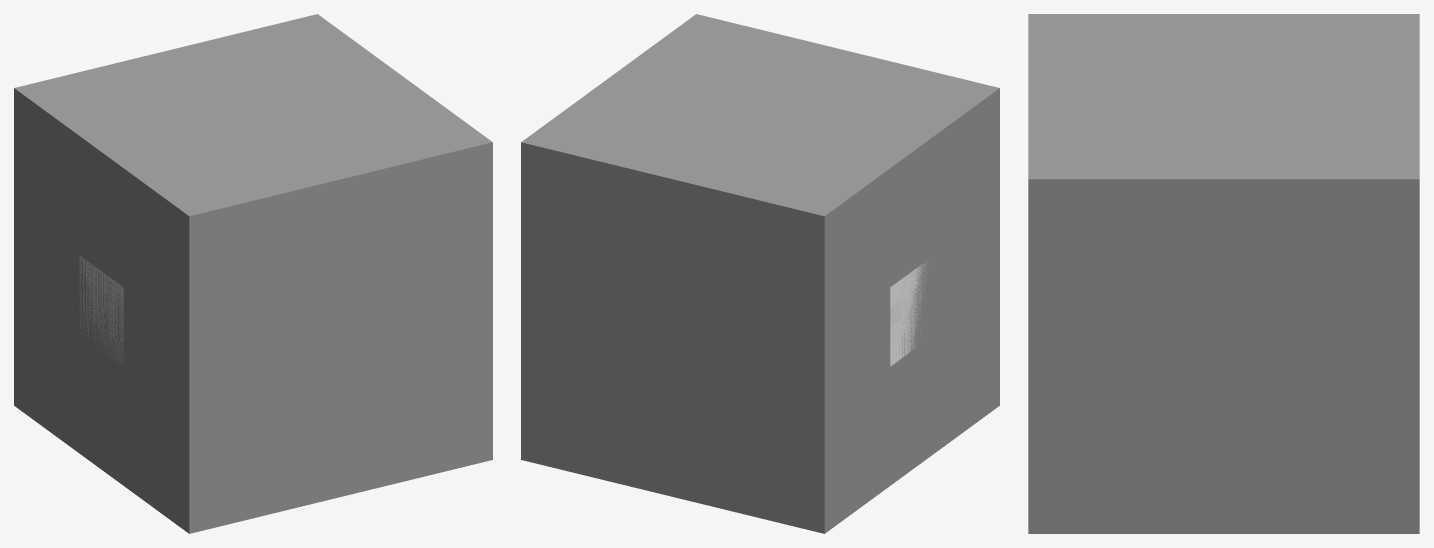
The model's file is wirelesssignalrx.obj.
3 views of the same model, side by side, from view 1: azimuth 30°, elevation 25°; view 2: azimuth 150°, elevation 25°; view 3: azimuth 270°, elevation 25° (orthographic). The views are drawn at different scales.
Parts seen in each view (by area): view 1: Minecraft_Block_Cube, Minecraft_2_Edge_Connectivity_Cube.002, main; view 2: Minecraft_Block_Cube, Minecraft_2_Edge_Connectivity_Cube.002, main; view 3: Minecraft_Block_Cube, Minecraft_2_Edge_Connectivity_Cube.002.
Boxes of the visible parts, x1,y1,x2,y2 form: Minecraft_Block_Cube: (15, 14, 492, 533); Minecraft_2_Edge_Connectivity_Cube.002: (14, 88, 252, 533); main: (79, 256, 123, 363); Minecraft_Block_Cube: (521, 14, 998, 533); Minecraft_2_Edge_Connectivity_Cube.002: (760, 88, 999, 533); main: (890, 261, 927, 366); Minecraft_Block_Cube: (1028, 14, 1419, 533); Minecraft_2_Edge_Connectivity_Cube.002: (1029, 14, 1418, 96).
Bounding box in the file's own units: 1 × 1 × 1.
2 materials, 1 textured.
